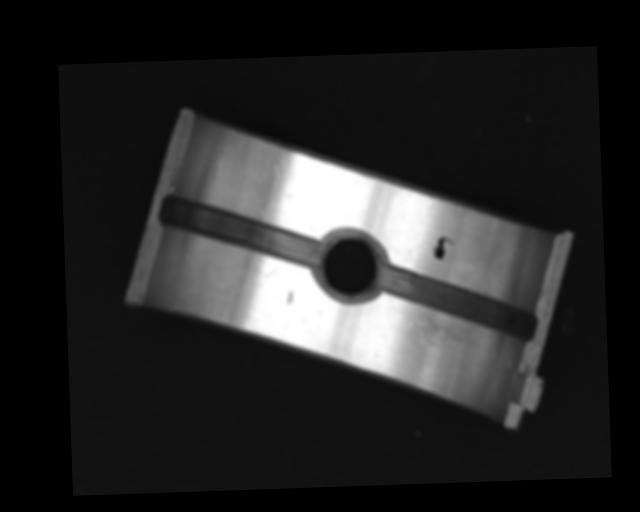blot: (432, 235, 456, 261)
bruise: (285, 290, 294, 304)
gap: (377, 259, 538, 345), (159, 191, 323, 272)
hole: (315, 230, 387, 297)
scratch: (400, 304, 484, 352)
